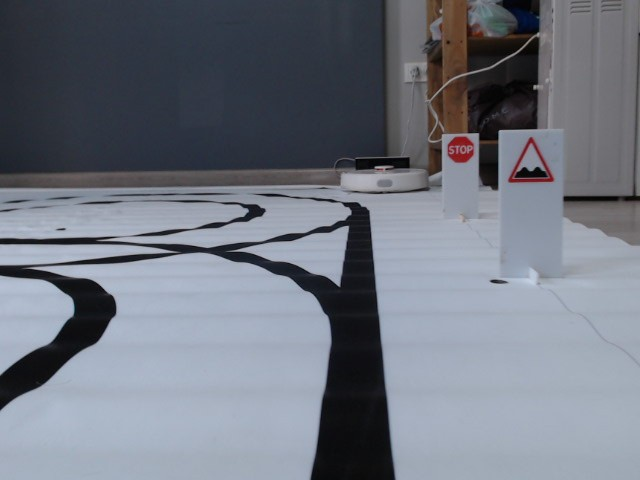Nerov: (506, 135, 556, 183)
Stop: (447, 135, 475, 164)
